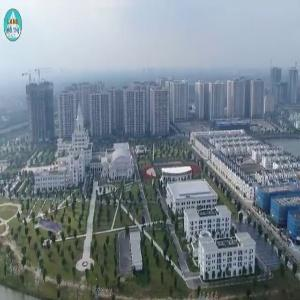drone: (21, 197, 82, 258)
